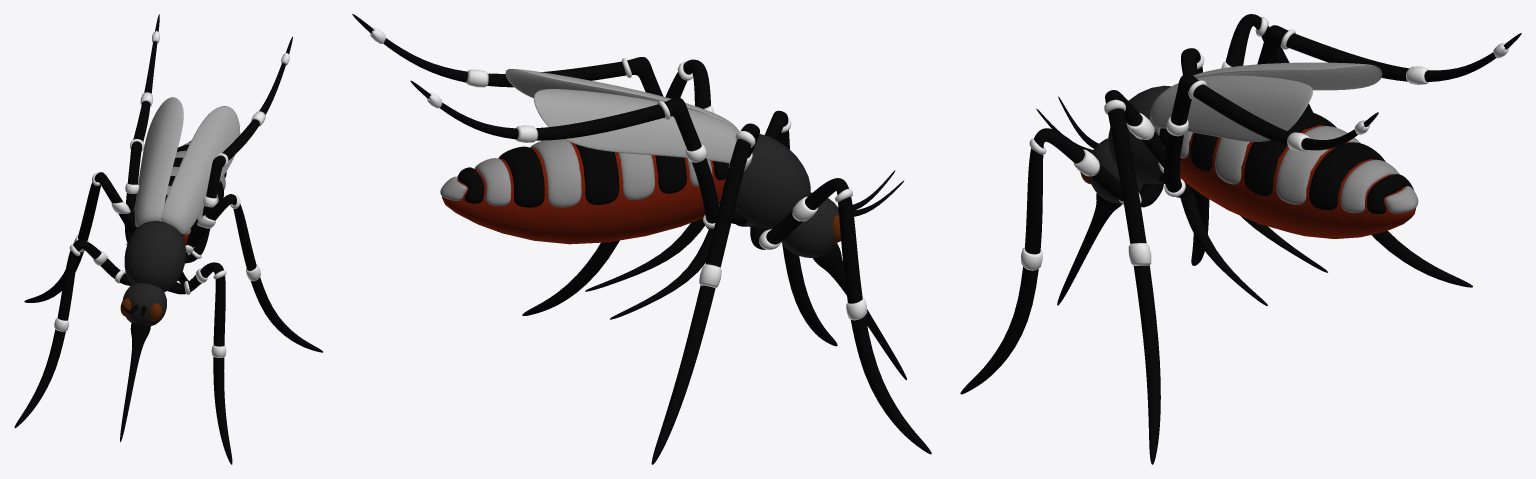
Rendered from mosquito.glb.
3 views of the same model, side by side, from view 1: azimuth 30°, elevation 25°; view 2: azimuth 150°, elevation 25°; view 3: azimuth 270°, elevation 25° (orthographic). The views are drawn at different scales.
Parts seen in each view (by area): view 1: Plane.087, Cube.187, Cube.191, Cube.184, Cube.189, Cube.244, Cube.185, Cube.192, Cube.194, Cube.188, Cube.193; view 2: Cube.186, Plane.087, Cube.191, Cube.189, Cube.187, Cube.194, Cube.193, Cube.184, Cube.244, Cube.190, Cube.185, Cube.192; view 3: Plane.087, Cube.191, Cube.186, Cube.189, Cube.187, Cube.194, Cube.193, Cube.244, Cube.190, Cube.184, Cube.192, Cube.185.
Part boxes in pixels (bbox=[...]): Plane.087: bbox=[134, 97, 240, 234]; Cube.187: bbox=[14, 239, 232, 464]; Cube.191: bbox=[24, 172, 322, 352]; Cube.184: bbox=[124, 221, 185, 292]; Cube.189: bbox=[124, 14, 292, 263]; Cube.244: bbox=[54, 30, 289, 357]; Cube.185: bbox=[122, 283, 166, 326]; Cube.192: bbox=[120, 322, 150, 441]; Cube.194: bbox=[132, 141, 226, 235]; Cube.188: bbox=[120, 298, 162, 321]; Cube.193: bbox=[133, 142, 225, 235]; Cube.186: bbox=[442, 142, 725, 244]; Plane.087: bbox=[505, 68, 739, 163]; Cube.191: bbox=[522, 59, 759, 464]; Cube.189: bbox=[352, 14, 719, 230]; Cube.187: bbox=[736, 110, 931, 454]; Cube.194: bbox=[457, 144, 729, 207]; Cube.193: bbox=[440, 139, 712, 207]; Cube.184: bbox=[734, 134, 810, 229]; Cube.244: bbox=[370, 28, 867, 320]; Cube.190: bbox=[585, 218, 713, 319]; Cube.185: bbox=[781, 192, 838, 257]; Cube.192: bbox=[813, 243, 906, 380]; Plane.087: bbox=[1150, 62, 1382, 141]; Cube.191: bbox=[1105, 14, 1472, 464]; Cube.186: bbox=[1164, 124, 1415, 238]; Cube.189: bbox=[1164, 25, 1521, 197]; Cube.187: bbox=[960, 48, 1209, 394]; Cube.194: bbox=[1159, 110, 1413, 214]; Cube.193: bbox=[1154, 126, 1418, 213]; Cube.244: bbox=[1020, 17, 1508, 270]; Cube.190: bbox=[1180, 191, 1327, 305]; Cube.184: bbox=[1108, 85, 1171, 184]; Cube.192: bbox=[1057, 193, 1122, 305]; Cube.185: bbox=[1090, 138, 1142, 203].
Bounding box in the file's own units: 2.18 × 1.78 × 2.04.
